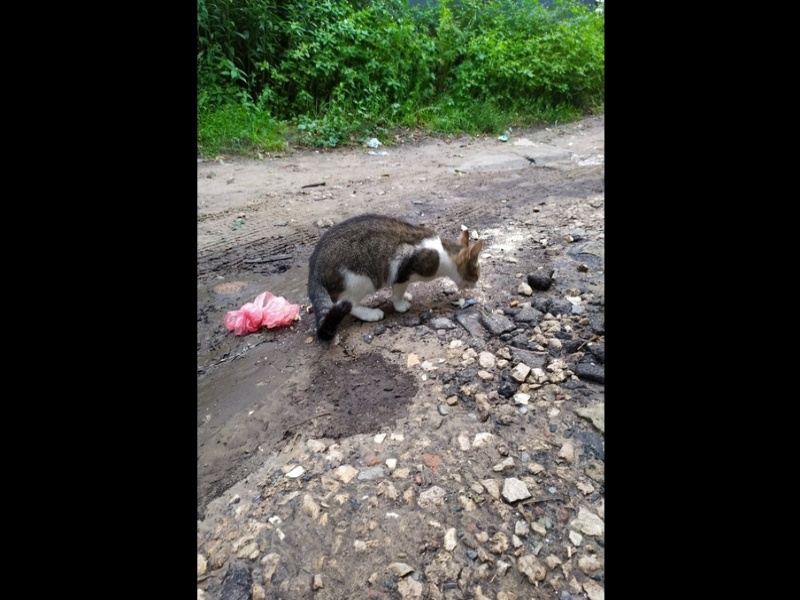cat: (304, 212, 490, 346)
